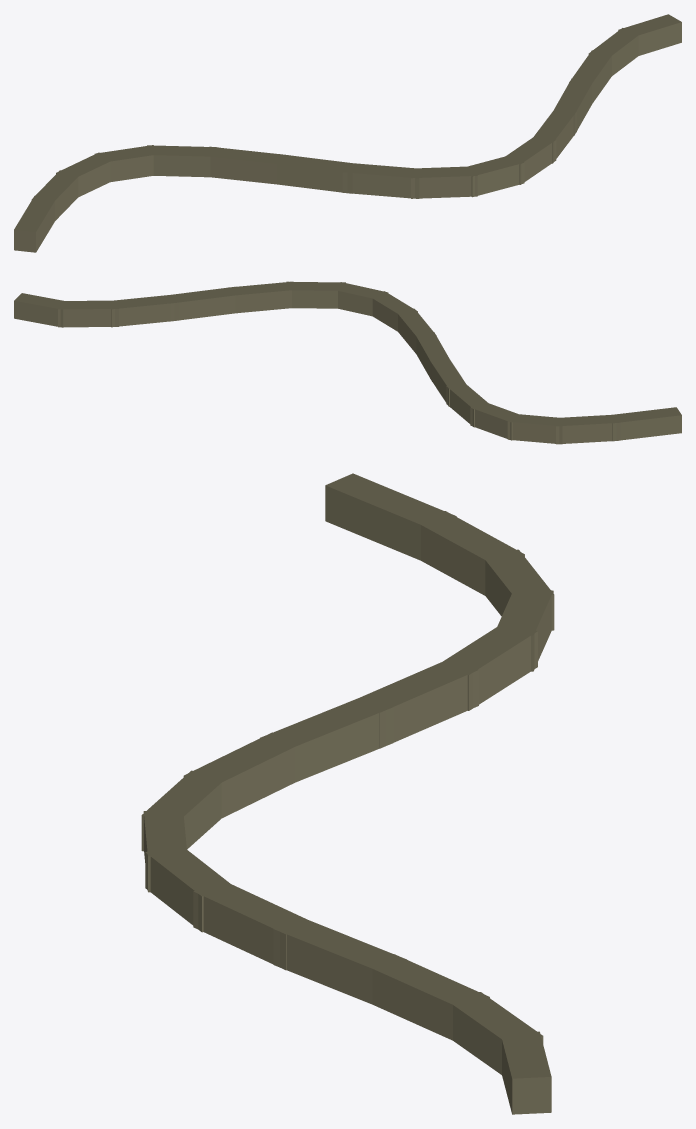
The model's file is SM_Manguera_v2_EseLarga_LOD1.fbx.
The picture shows the model from 3 angles, top to bottom: view 1: azimuth 30°, elevation 25°; view 2: azimuth 150°, elevation 25°; view 3: azimuth 270°, elevation 25°; orthographic projection. The views are drawn at different scales.
Parts seen in each view (by area): view 1: SM_farp_betera_v7_LOD1; view 2: SM_farp_betera_v7_LOD1; view 3: SM_farp_betera_v7_LOD1.
Boxes of the visible parts, box(x1,y1,x2,y2) form: SM_farp_betera_v7_LOD1: box(14, 14, 681, 252); SM_farp_betera_v7_LOD1: box(14, 281, 681, 444); SM_farp_betera_v7_LOD1: box(141, 473, 554, 1114).
Size of the model in its own units: 12.28 by 0.34 by 3.54.
